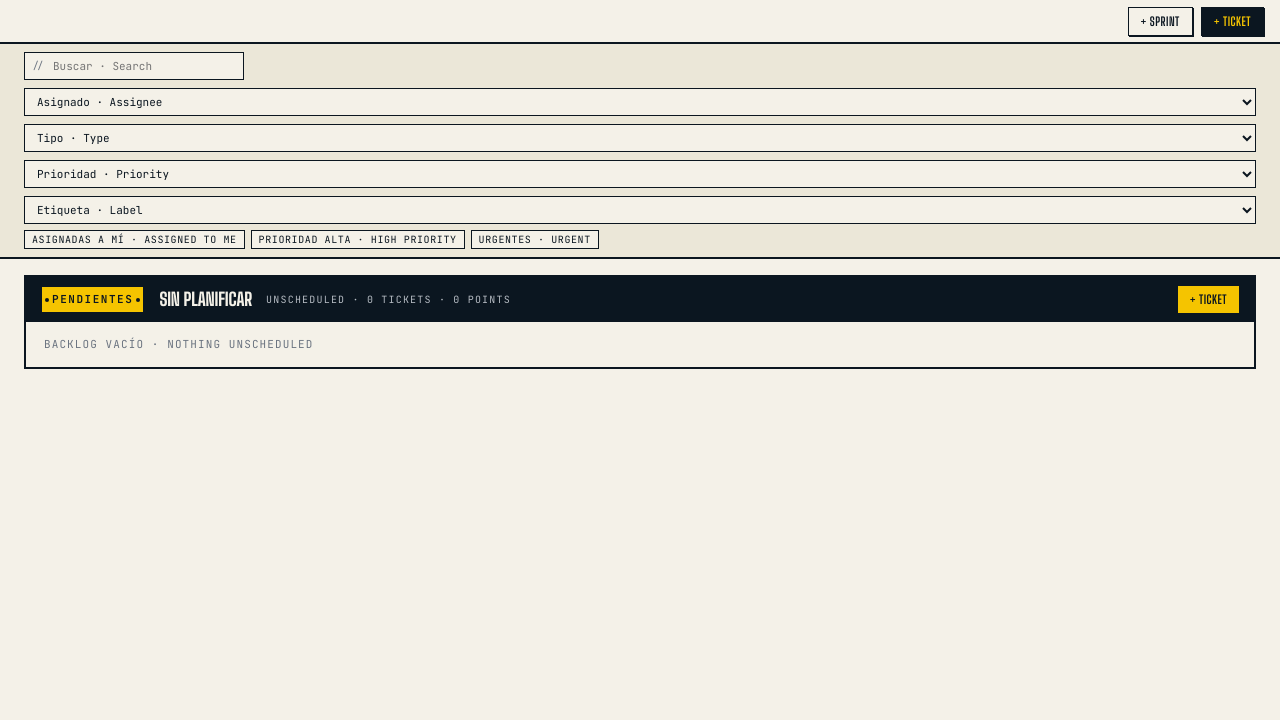
BacklogPage (coverage) › shows the "Creando…" pending label while a sprint is being created
The width and height of the screenshot is (1280, 720).
Check: the text "PENDIENTES" is shown, box 40,285 -> 145,314
Click the button "+ Sprint" at (1160,21), box 1128,6 -> 1193,36
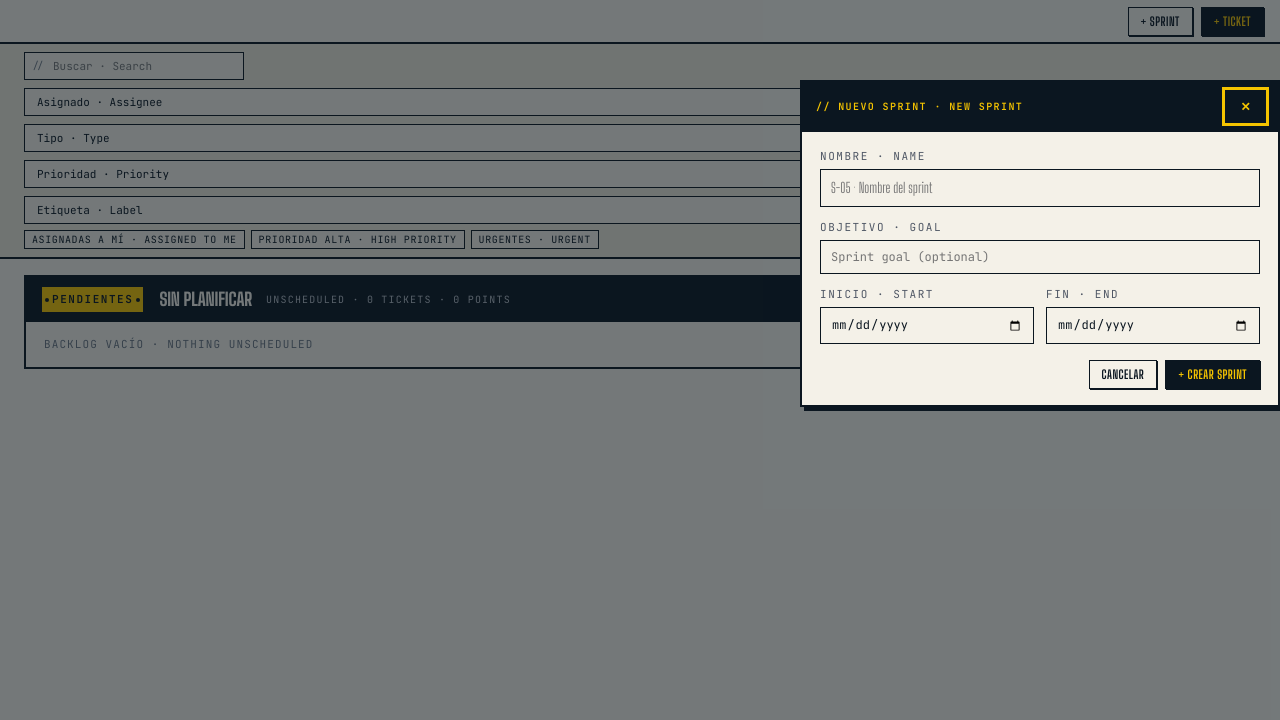
Check: the text "// NUEVO SPRINT · NEW SPRINT" is shown, box 816,99 -> 1023,114
Type "S-09" into the field with placeholder "S-05 · Nombre del sprint" at (1040,188), box 820,169 -> 1260,207
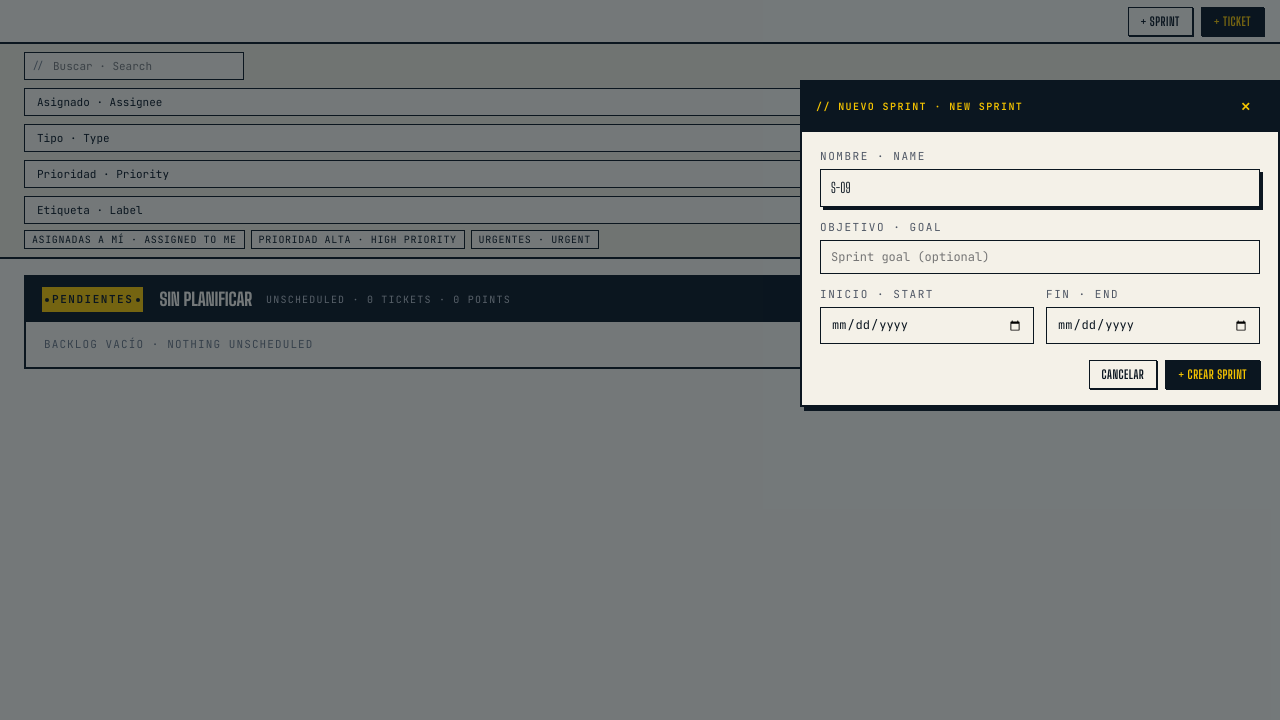
Click the button "+ Crear sprint" at (1213,374), box 1165,360 -> 1260,389
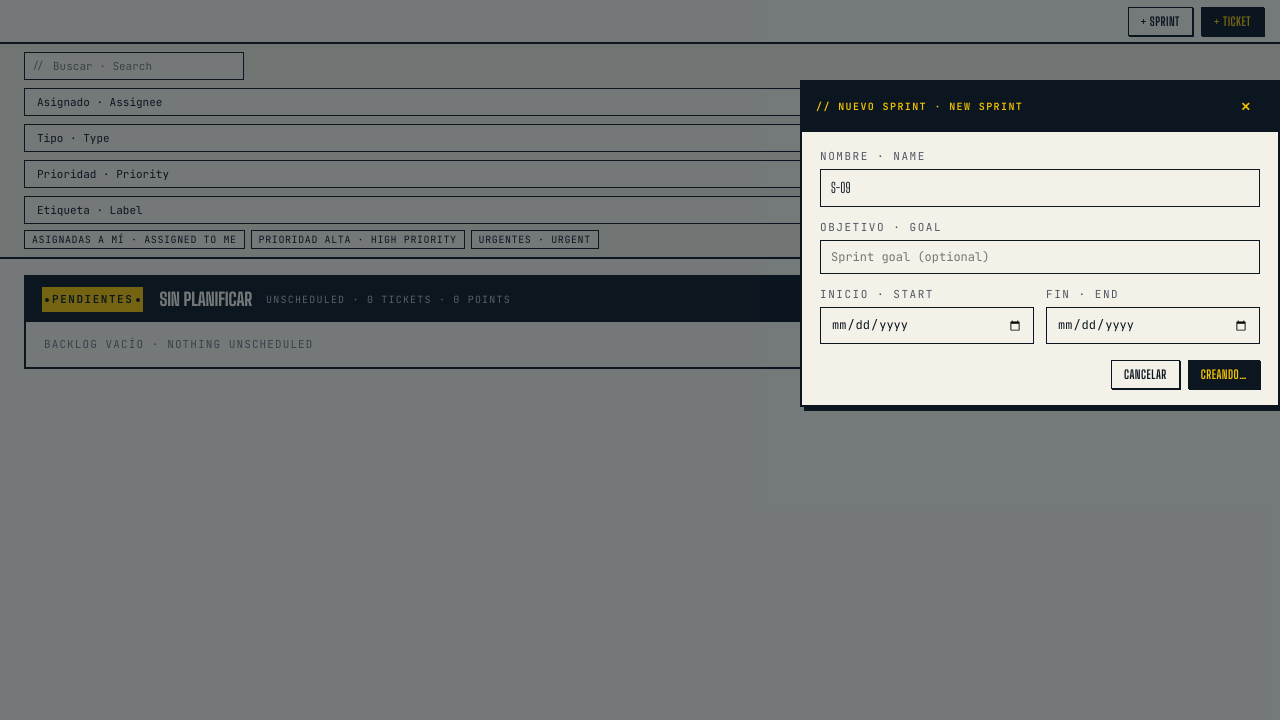
Check: the button "Creando…" is shown, box 1188,360 -> 1260,389
